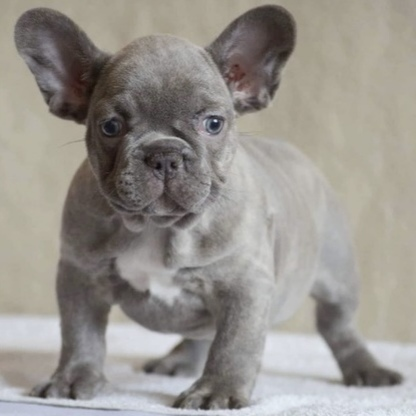bulldog: (17, 4, 403, 411)
